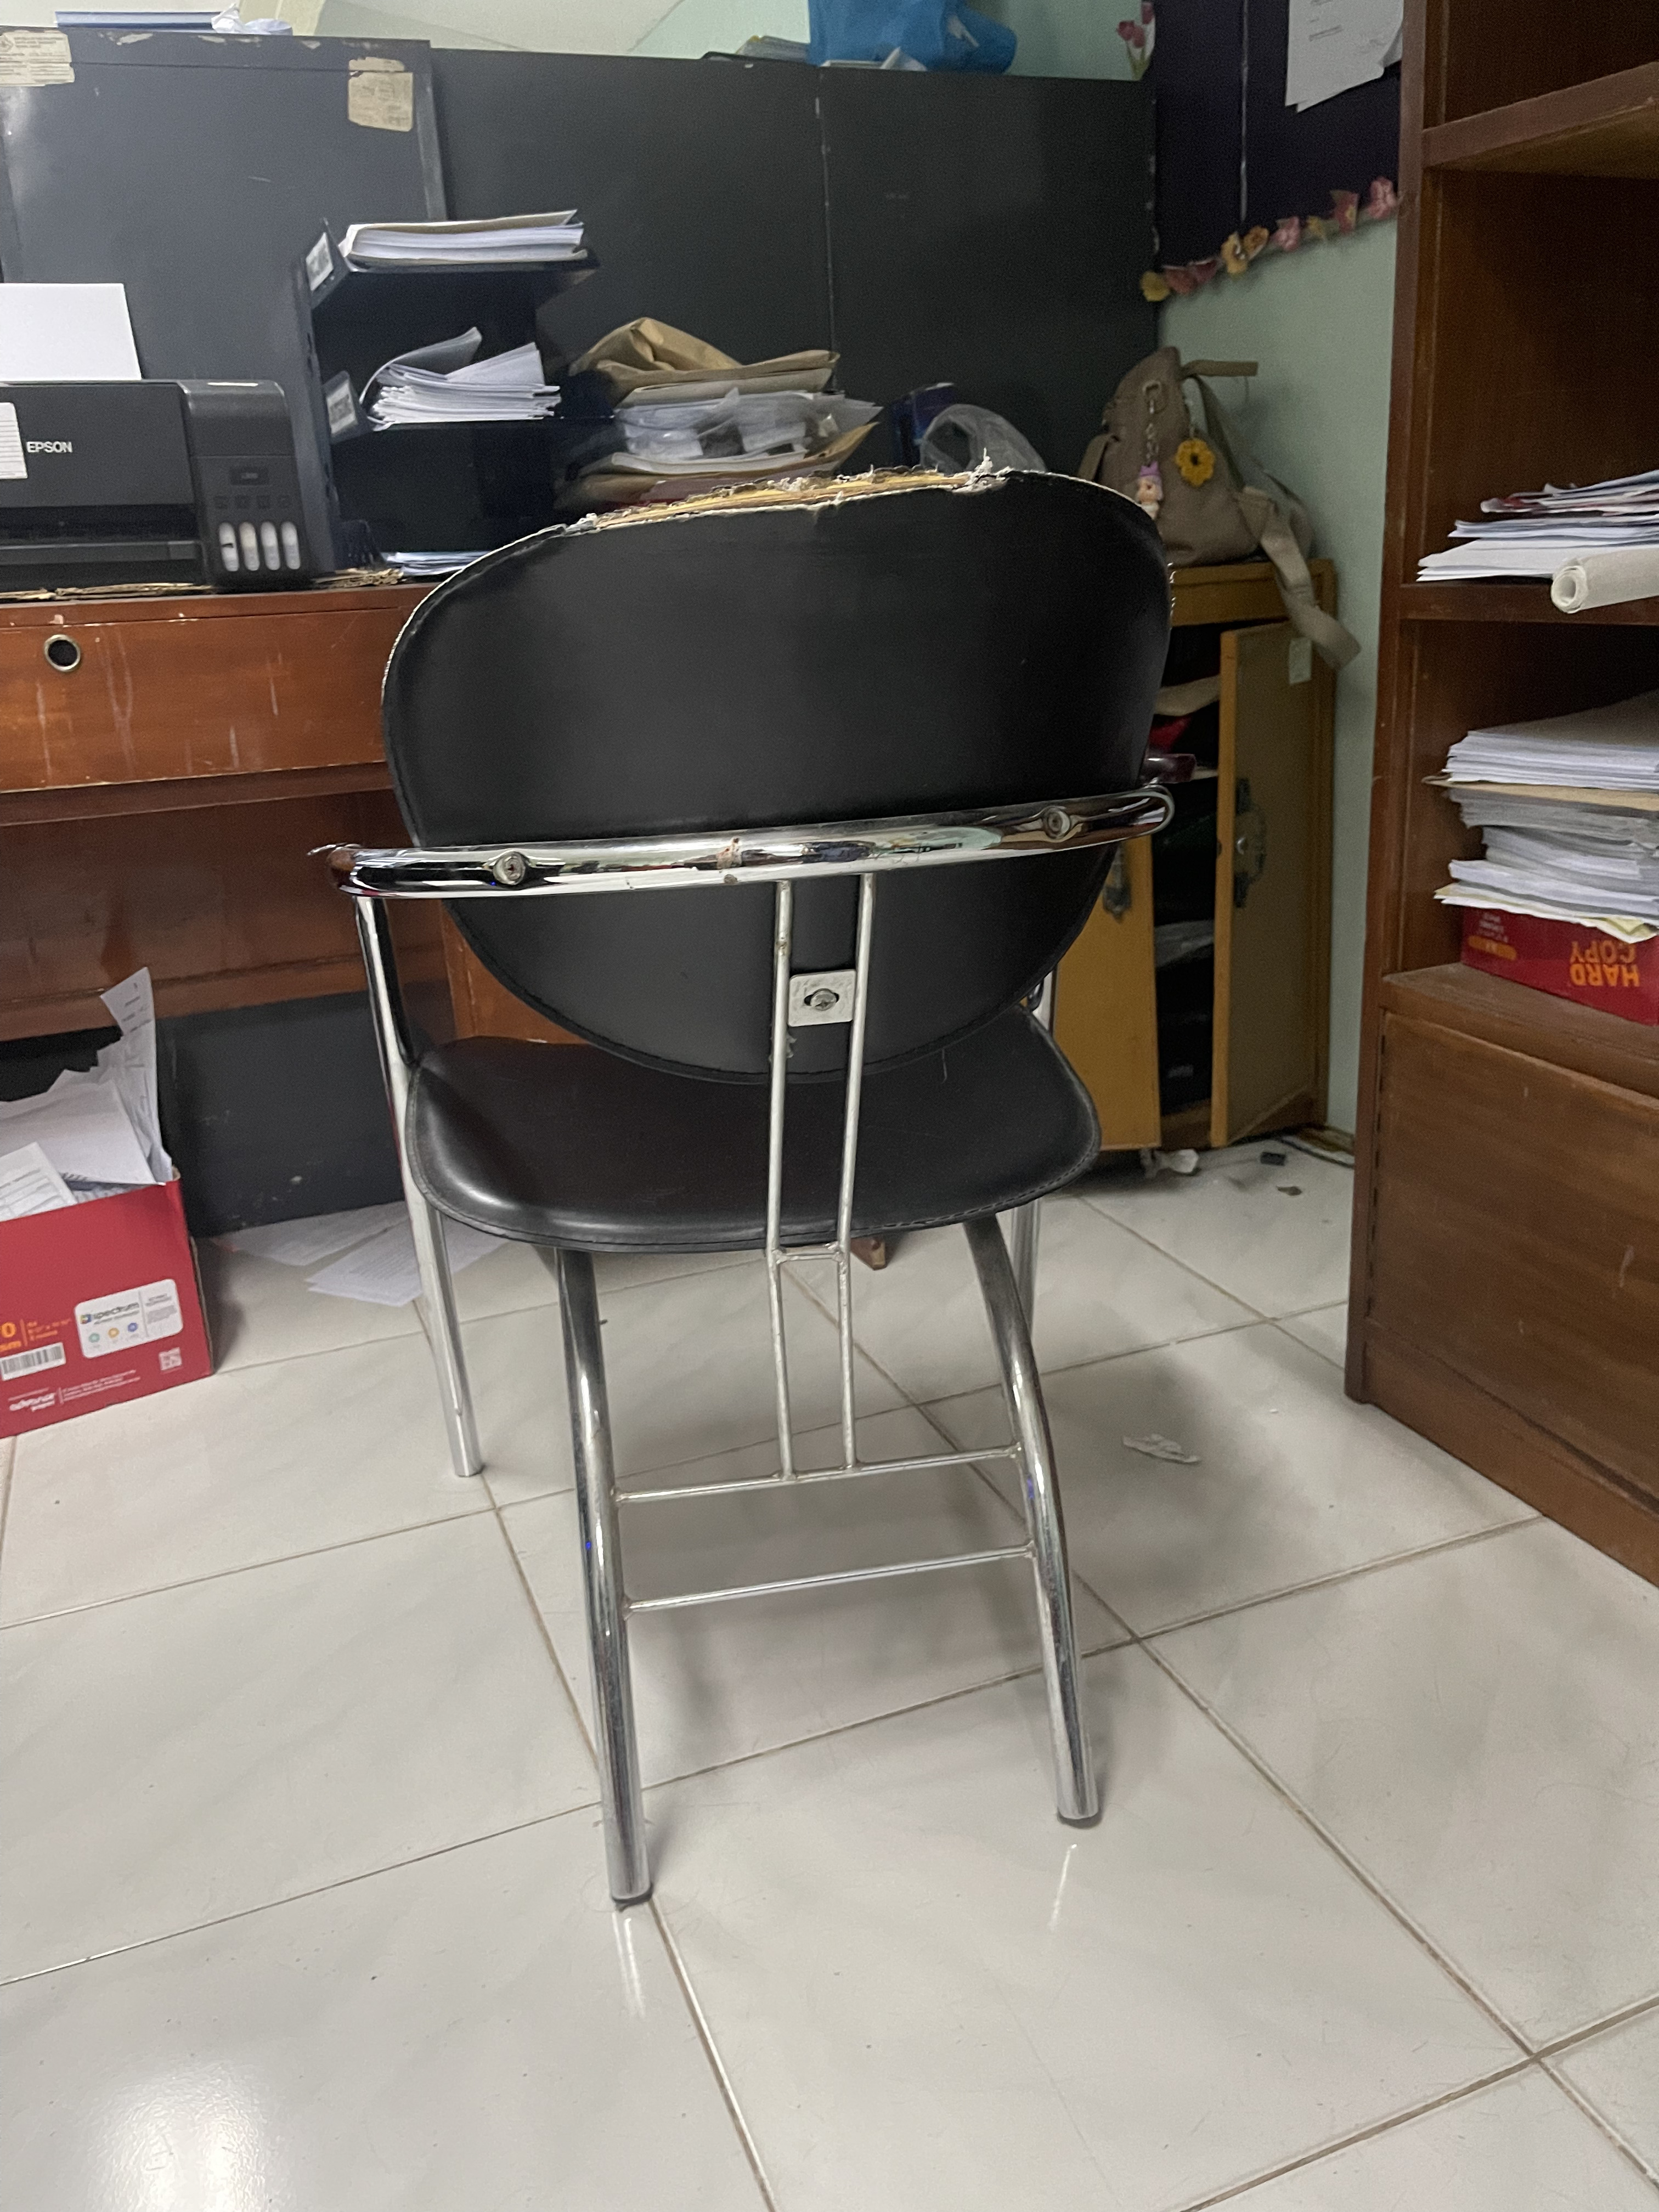chair1: (315, 472, 1204, 1925)
